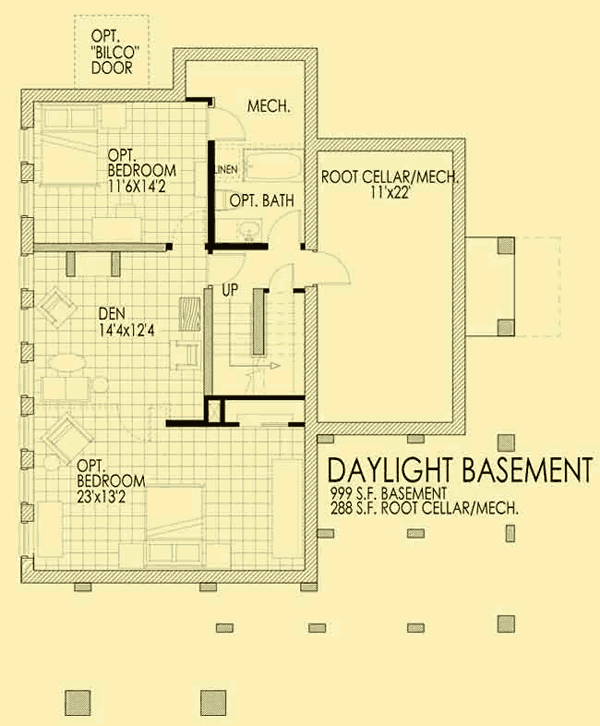bed: (135, 475, 212, 576), (39, 100, 107, 196)
door: (203, 246, 248, 291), (201, 100, 249, 141), (312, 246, 353, 293), (168, 209, 209, 253), (267, 204, 303, 250), (267, 257, 297, 293)
large sink: (213, 186, 247, 214)
large sofa: (35, 374, 96, 409)
small sink: (219, 217, 268, 243)
small sofa: (38, 409, 96, 463), (38, 284, 82, 333), (162, 334, 203, 373)
stairs: (210, 285, 303, 401)
tub: (240, 145, 306, 185)
windows: (12, 357, 36, 455), (13, 250, 36, 345), (19, 120, 39, 220), (16, 467, 36, 506)
